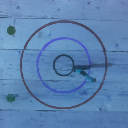Axe Tip: (79, 67, 90, 69)
